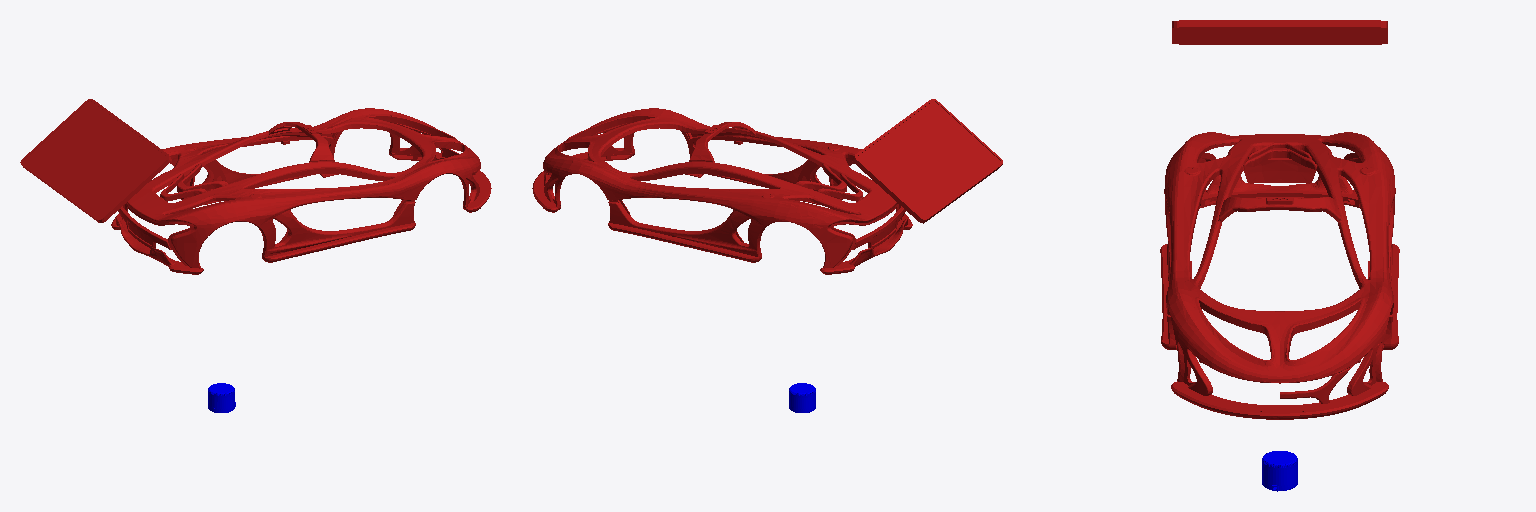
The robot description file, URDF, robot "sports-urdf":
<?xml version="1.0" encoding="utf-8"?>
<!-- This URDF was automatically created by SolidWorks to URDF Exporter! Originally created by Stephen Brawner (brawner@gmail.com) 
     Commit Version: 1.6.0-4-g7f85cfe  Build Version: 1.6.7995.38578
     For more information, please see http://wiki.ros.org/sw_urdf_exporter -->
<robot
  name="sports-urdf">
  <link
    name="base_link">
    <inertial>
      <origin
        xyz="0.61017 0.0012296 0.43395"
        rpy="0 0 0" />
      <mass
        value="32.256" />
      <inertia
        ixx="1.2257"
        ixy="0.001212"
        ixz="0.0076635"
        iyy="2.8119"
        iyz="0.00028458"
        izz="3.6795" />
    </inertial>
    <visual>
      <origin
        xyz="0 0 0"
        rpy="0 0 0" />
      <geometry>
        <mesh
          filename="package://vehicle_description/mesh/base_link.STL" />
      </geometry>
      <material
        name="">
        <color
          rgba="0.8 0.8 0.8 1" />
      </material>
    </visual>
    <collision>
      <origin
        xyz="0 0 0"
        rpy="0 0 0" />
      <geometry>
        <mesh
          filename="package://vehicle_description/mesh/base_link.STL" />
      </geometry>
    </collision>
  </link>
  <link
    name="velodyne">
    <inertial>
      <origin
        xyz="5.4968E-05 -1.5385E-05 -0.0042813"
        rpy="0 0 0" />
      <mass
        value="0.10243" />
      <inertia
        ixx="0.00011195"
        ixy="1.2155E-07"
        ixz="-1.0117E-07"
        iyy="0.00011061"
        iyz="3.2354E-08"
        izz="0.00020477" />
    </inertial>
    <visual>
      <origin
        xyz="-0.39 0 -1.12"
        rpy="0 0 0" />
      <geometry>
        <mesh
          filename="package://vehicle_description/mesh/velodyne.STL" />
      </geometry>
      <material
        name="">
        <color
          rgba="0 0 1 1" />
      </material>
    </visual>
    <collision>
      <origin
        xyz="0 0 0"
        rpy="0 0 0" />
      <geometry>
        <mesh
          filename="package://vehicle_description/mesh/velodyne.STL" />
      </geometry>
    </collision>
  </link>
  <joint
    name="velodyne_Link"
    type="fixed">
    <origin
      xyz="0.80931 -2.3103E-05 0.87813"
      rpy="0 0 0" />
    <parent
      link="base_link" />
    <child
      link="velodyne" />
    <axis
      xyz="0 0 0" />
  </joint>
  <link
    name="wheel_link">
    <inertial>
      <origin
        xyz="-0.020074 0.00018969 0.1291"
        rpy="0 0 0" />
      <mass
        value="16.086" />
      <inertia
        ixx="0.095149"
        ixy="3.1801E-08"
        ixz="4.3901E-07"
        iyy="0.14729"
        iyz="2.4395E-08"
        izz="0.095139" />
    </inertial>
    <visual>
      <origin
        xyz="0 0 0"
        rpy="0 0 0" />
      <geometry>
        <mesh
          filename="package://vehicle_description/mesh/wheel_link.STL" />
      </geometry>
      <material
        name="">
        <color
          rgba="0.098 0.098 0.44 1" />
      </material>
    </visual>
    <collision>
      <origin
        xyz="0 0 0"
        rpy="0 0 0" />
      <geometry>
        <mesh
          filename="package://vehicle_description/mesh/wheel_link.STL" />
      </geometry>
    </collision>
  </link>
  <joint
    name="wheel_Link"
    type="fixed">
    <origin
      xyz="0.76639 -2.3103E-05 0.37993"
      rpy="0 0 0" />
    <parent
      link="base_link" />
    <child
      link="wheel_link" />
    <axis
      xyz="0 0 0" />
  </joint>
  <link
    name="vehicle_mode_link">
    <inertial>
      <origin
        xyz="-0.58938 0.00087212 0.35639"
        rpy="0 0 0" />
      <mass
        value="5.8444" />
      <inertia
        ixx="0.16809"
        ixy="4.3152E-05"
        ixz="-0.01962"
        iyy="0.073985"
        iyz="-3.4047E-05"
        izz="0.21204" />
    </inertial>
    <visual>
      <origin
        xyz="0 0 0"
        rpy="0 0 0" />
      <geometry>
        <mesh
          filename="package://vehicle_description/mesh/vehicle_mode_link.STL" />
      </geometry>
      <material
        name="">
        <color
          rgba="0.7 0.13 0.13 1" />
      </material>
    </visual>
    <collision>
      <origin
        xyz="0 0 0"
        rpy="0 0 0" />
      <geometry>
        <mesh
          filename="package://vehicle_description/mesh/vehicle_mode_link.STL" />
      </geometry>
    </collision>
  </link>
  <joint
    name="vehicle_mode_Link"
    type="fixed">
    <origin
      xyz="0.76639 -2.3103E-05 0.37993"
      rpy="0 0 0" />
    <parent
      link="base_link" />
    <child
      link="vehicle_mode_link" />
    <axis
      xyz="0 0 0" />
  </joint>
</robot>

--- What the picture shows (computed from the rendered views, not written in the file) ---
3 views of the same robot in one strip: view 1: azimuth 30°, elevation 25°; view 2: azimuth 150°, elevation 25°; view 3: azimuth 270°, elevation 25° (orthographic).
Robot: sports-urdf — 4 links, 3 joints (3 fixed); root link base_link; default pose: every joint at zero.
Links seen in each view (by area): view 1: vehicle_mode_link, velodyne; view 2: vehicle_mode_link, velodyne; view 3: vehicle_mode_link, velodyne.
Link boxes in pixels (<box>): vehicle_mode_link: <box>20,99,491,274</box>; velodyne: <box>208,383,235,412</box>; vehicle_mode_link: <box>532,99,1002,274</box>; velodyne: <box>789,383,815,412</box>; vehicle_mode_link: <box>1160,20,1399,419</box>; velodyne: <box>1262,451,1297,491</box>.
Size in the robot's own frame: 1.83 by 0.6779 by 1.26 metres.
2 mesh visuals loaded from 4 distinct referenced files (2 binary STL); not drawn: 2 (reference not matched to a file when rendering).
